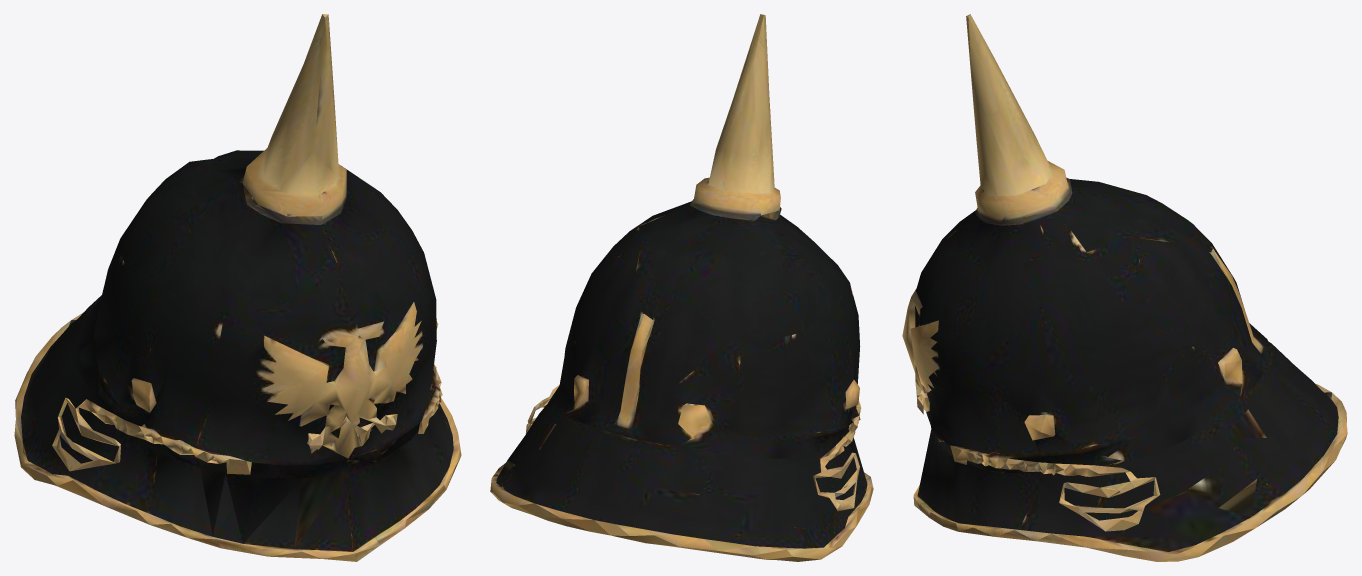
The model's file is hat-pickel.glb.
3 renders of one model, left to right at view 1: azimuth 30°, elevation 25°; view 2: azimuth 150°, elevation 25°; view 3: azimuth 270°, elevation 25°, orthographic. The views are drawn at different scales.
Parts seen in each view (by area): view 1: pickel-3k; view 2: pickel-3k; view 3: pickel-3k.
Boxes of the visible parts, x1,y1,x2,y2 form: pickel-3k: [14, 14, 461, 561]; pickel-3k: [490, 14, 873, 561]; pickel-3k: [902, 14, 1347, 561].
Bounding box in the file's own units: 0.3198 × 0.42 × 0.3462.
1 material, 1 textured.
